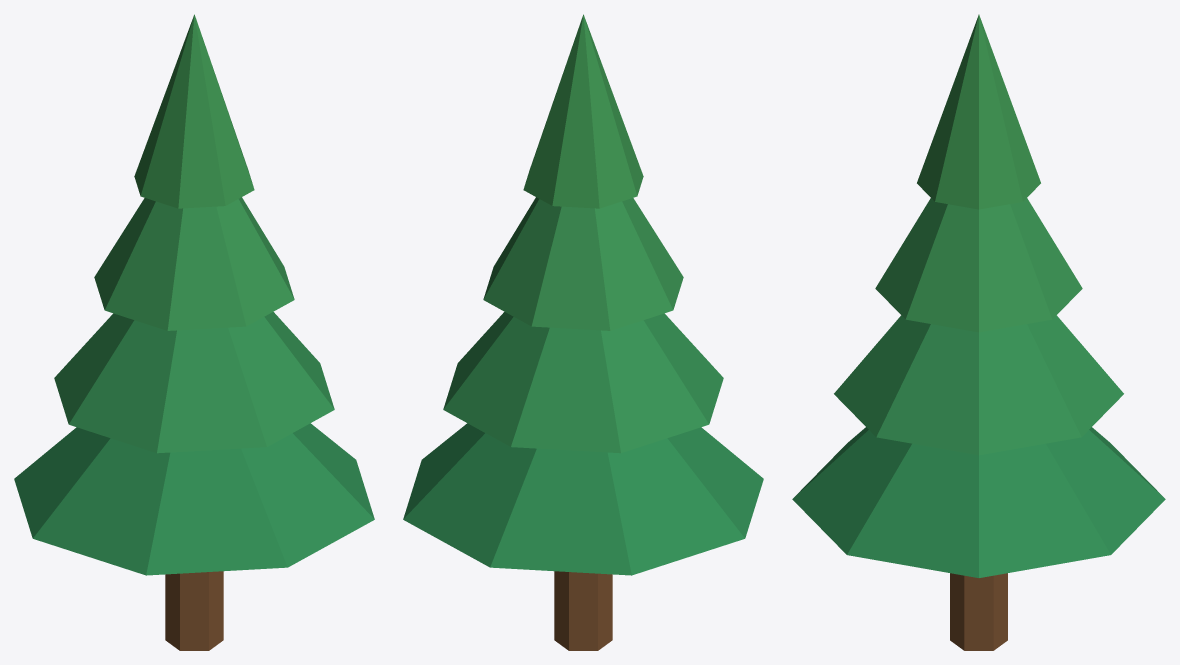
The model's file is PineTree.fbx.
3 views of the same model, side by side, from view 1: azimuth 30°, elevation 25°; view 2: azimuth 150°, elevation 25°; view 3: azimuth 270°, elevation 25° (orthographic).
Visible parts, largest first — view 1: PineTree; view 2: PineTree; view 3: PineTree.
Boxes of the visible parts, left/top/right/bottom form: PineTree: left=14, top=14, right=374, bottom=650; PineTree: left=403, top=14, right=763, bottom=650; PineTree: left=792, top=14, right=1165, bottom=650.
Size of the model in its own units: 9 by 16.65 by 9.
1 material, 1 textured.
